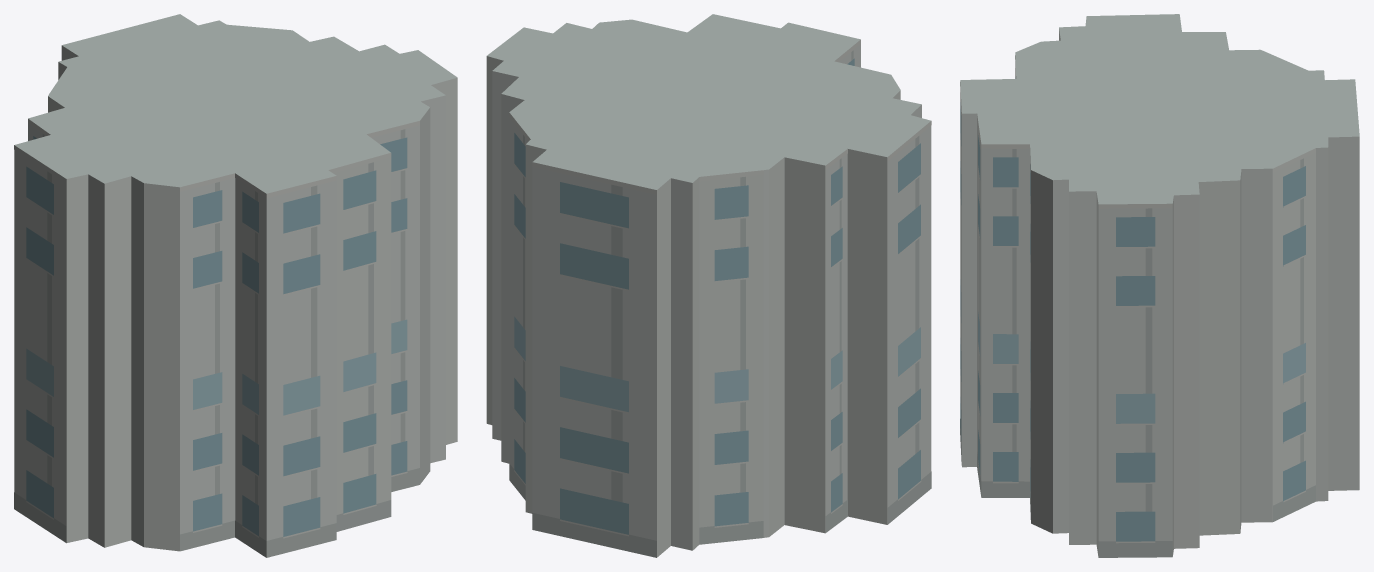
Rendered from survey-upis-32584751.glb.
The picture shows the model from 3 angles, left to right: view 1: azimuth 30°, elevation 25°; view 2: azimuth 150°, elevation 25°; view 3: azimuth 270°, elevation 25°; orthographic projection. The views are drawn at different scales.
Visible parts, largest first — view 1: survey-upis-32584751.tmp; view 2: survey-upis-32584751.tmp; view 3: survey-upis-32584751.tmp.
Boxes of the visible parts, left/top/right/bottom form: survey-upis-32584751.tmp: left=14, top=14, right=457, bottom=557; survey-upis-32584751.tmp: left=486, top=14, right=931, bottom=557; survey-upis-32584751.tmp: left=960, top=14, right=1359, bottom=557.
Size of the model in its own units: 22.01 by 19.05 by 19.53.
